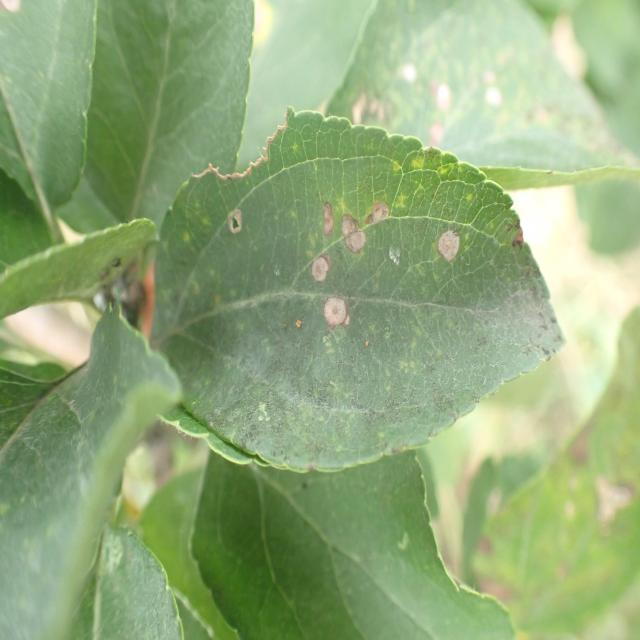frog-eye-leaf-spot: (150, 104, 566, 474)
